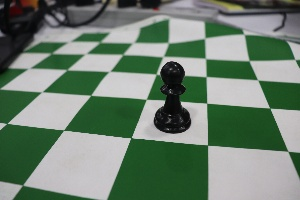black_pawn: (149, 53, 194, 135)
